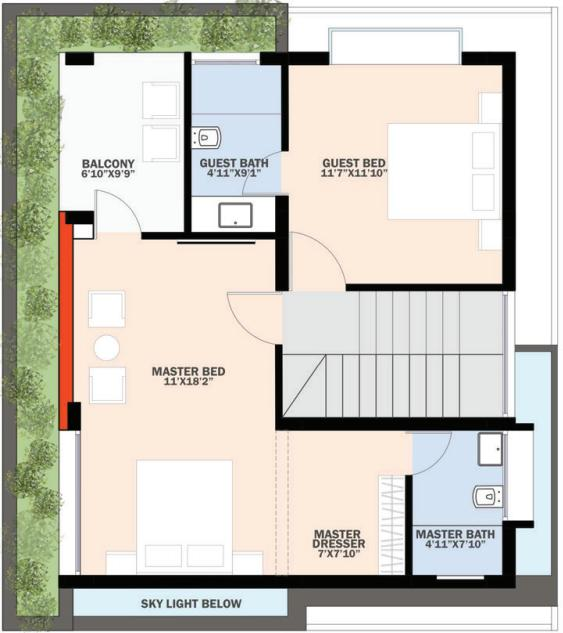Balcony: (63, 59, 192, 239)
Bed: (385, 125, 506, 217), (136, 460, 228, 575)
Bedroom: (60, 229, 282, 576), (286, 62, 509, 287)
Sofa: (139, 77, 184, 161), (92, 290, 124, 334), (89, 366, 125, 402)
Wardrobe: (375, 477, 408, 577)
commode: (190, 123, 222, 151), (472, 486, 503, 509)
door: (291, 232, 345, 291), (229, 292, 283, 344), (92, 186, 143, 232), (240, 149, 287, 195), (413, 433, 451, 474)
dress: (286, 433, 413, 574)
sink: (478, 432, 502, 466), (220, 204, 253, 228)
toilet: (191, 64, 279, 232), (417, 435, 504, 575)
